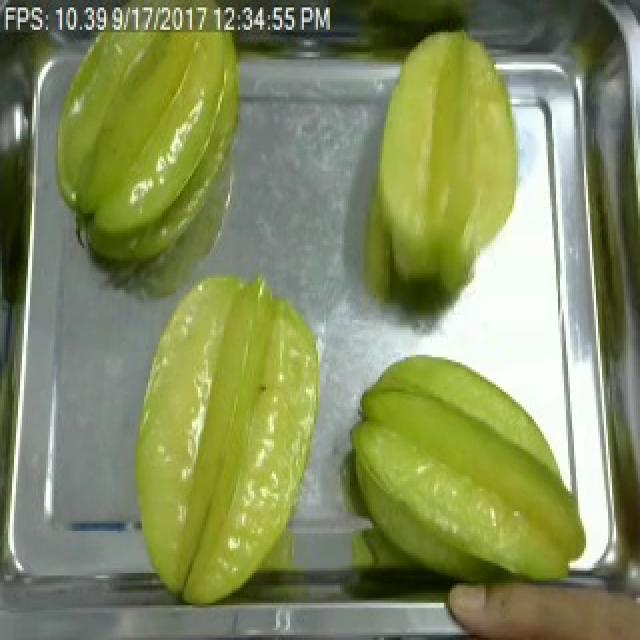fruit: (118, 265, 332, 613), (336, 345, 594, 588), (360, 20, 532, 320), (38, 32, 254, 248)
